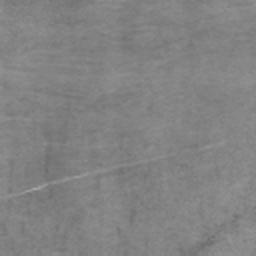Finishing roll printing: (0, 141, 224, 204)
